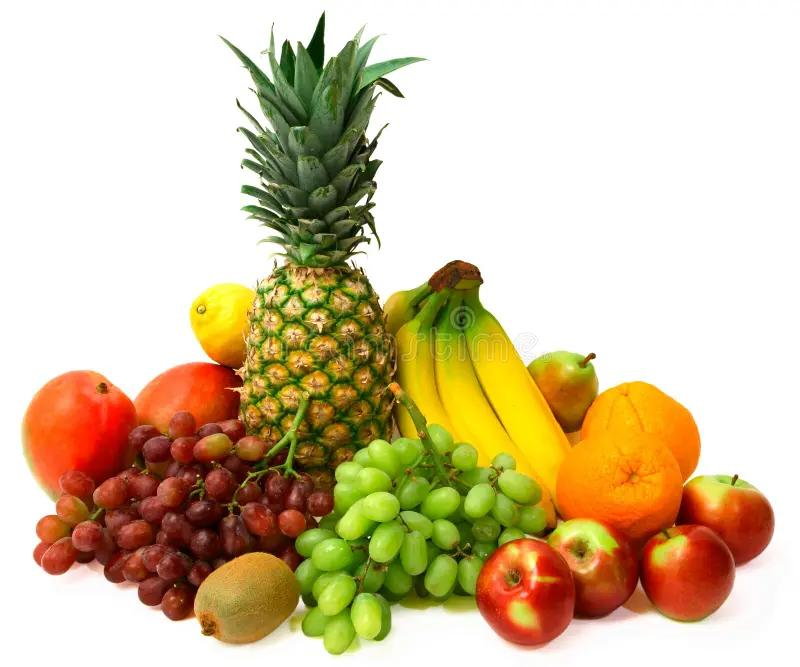apple: (18, 368, 128, 489), (552, 439, 680, 531), (476, 539, 576, 655), (644, 524, 736, 626), (684, 472, 778, 571), (551, 519, 643, 620)
banana: (396, 252, 576, 483)
grape: (32, 414, 314, 570), (308, 434, 532, 630)
kiwi: (198, 551, 302, 652)
lemon: (189, 286, 253, 363)
orange: (588, 378, 715, 458)
pineapple: (209, 11, 403, 442)
